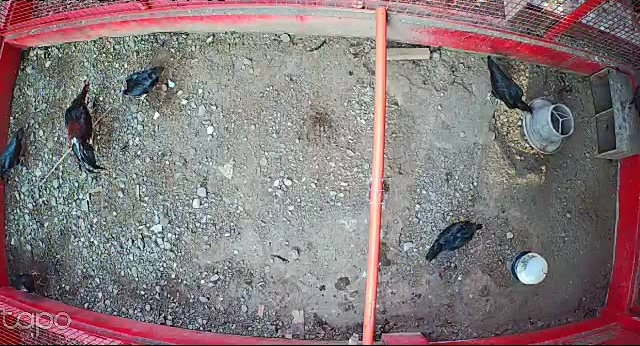Chicken: (479, 52, 534, 119), (425, 220, 487, 265), (0, 127, 32, 186), (121, 65, 165, 100)
Drinker: (512, 249, 551, 288)
Feeder: (524, 94, 572, 158)
Rooster: (60, 82, 108, 177)
